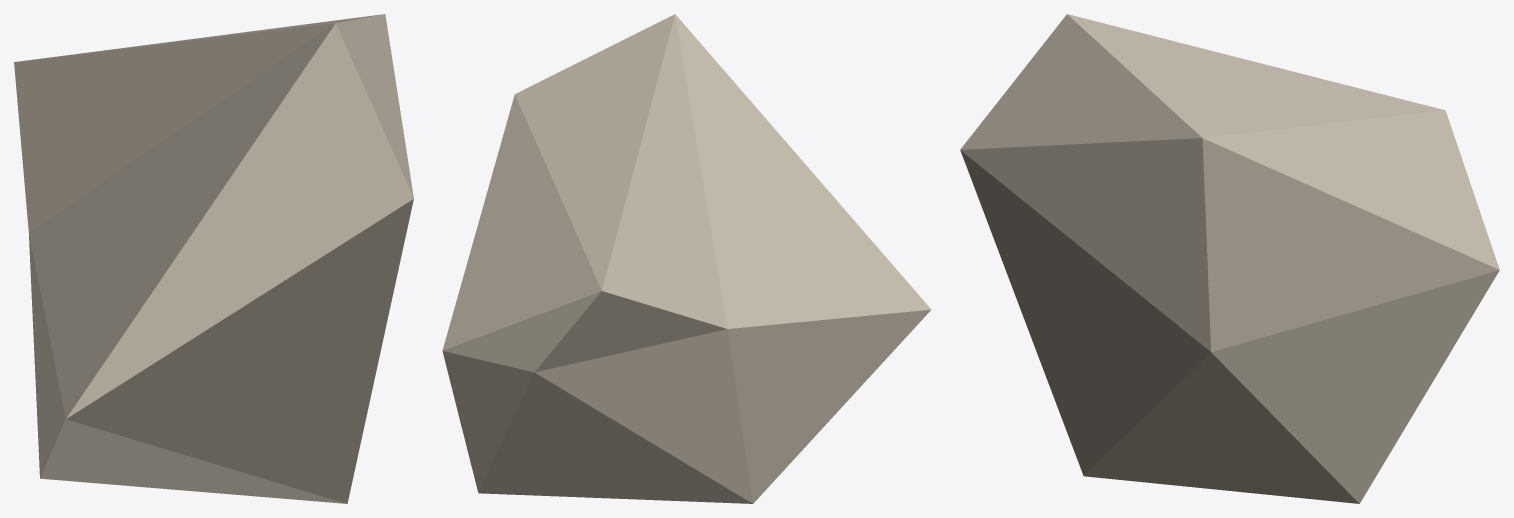
Rendered from Rock 2.fbx.
The picture shows the model from 3 angles, left to right: view 1: azimuth 30°, elevation 25°; view 2: azimuth 150°, elevation 25°; view 3: azimuth 270°, elevation 25°; orthographic projection. The views are drawn at different scales.
Visible parts, largest first — view 1: Rock 2; view 2: Rock 2; view 3: Rock 2.
Boxes of the visible parts, bbox=[...] form: Rock 2: bbox=[14, 14, 413, 503]; Rock 2: bbox=[442, 14, 931, 503]; Rock 2: bbox=[960, 14, 1499, 503].
Bounding box in the file's own units: 257 × 275 × 297.
